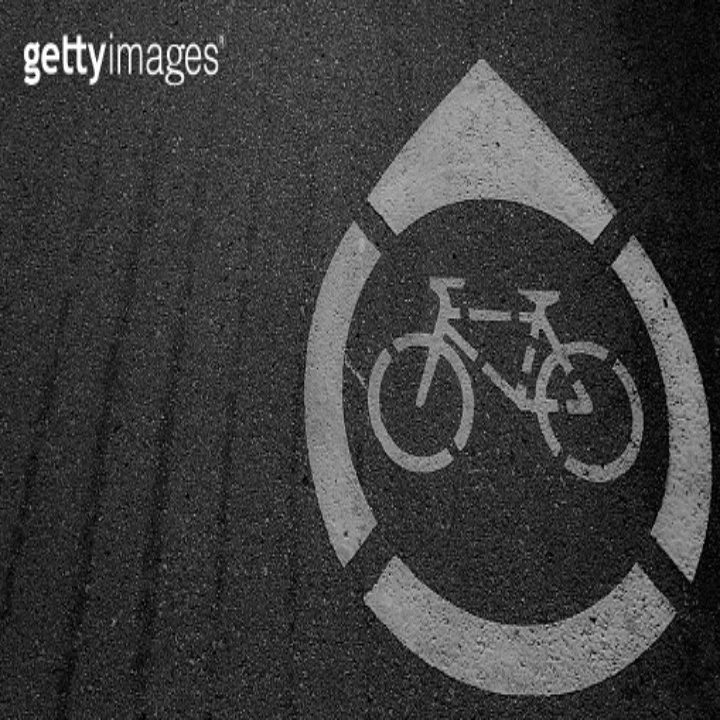bicycle: (371, 247, 649, 525)
